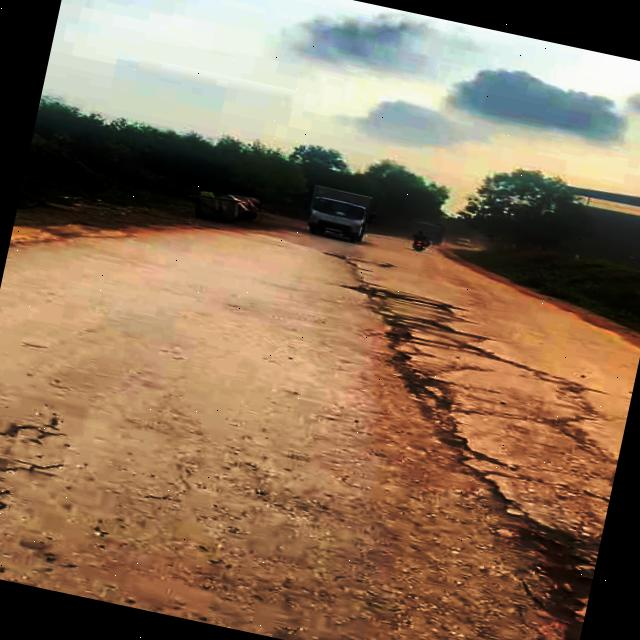pothole: (453, 497, 604, 640)
